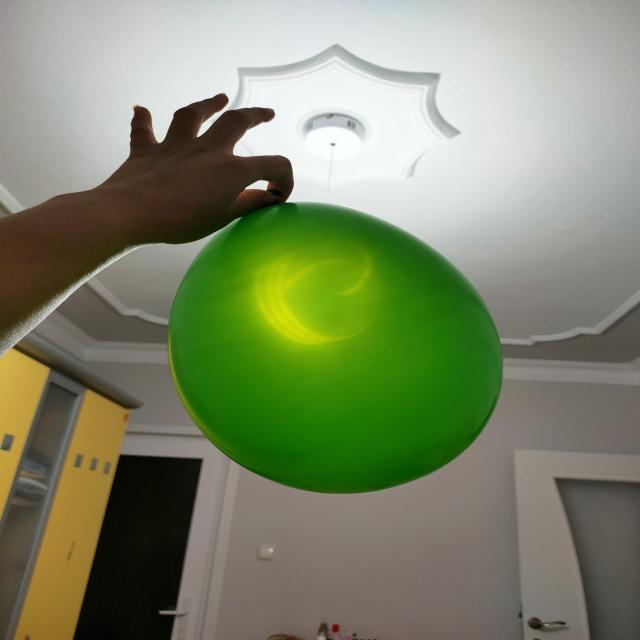green: (172, 202, 505, 493)
